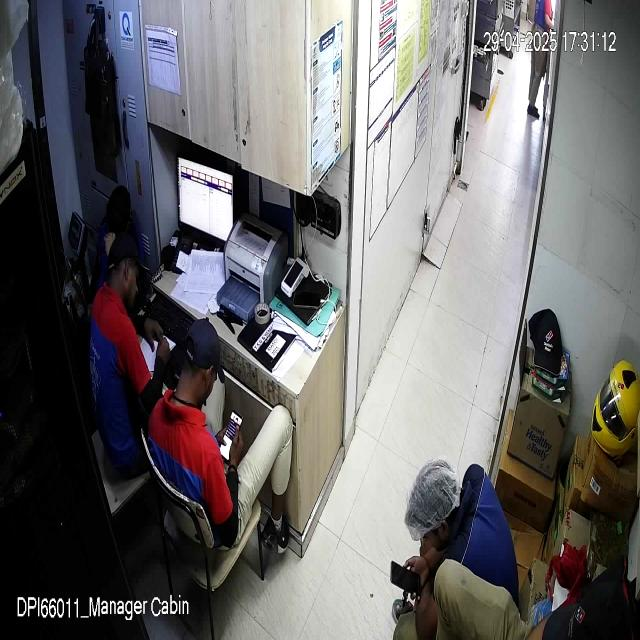helmet: (590, 360, 640, 461)
no_helmet: (403, 459, 461, 549), (175, 317, 225, 408), (107, 228, 151, 307)
